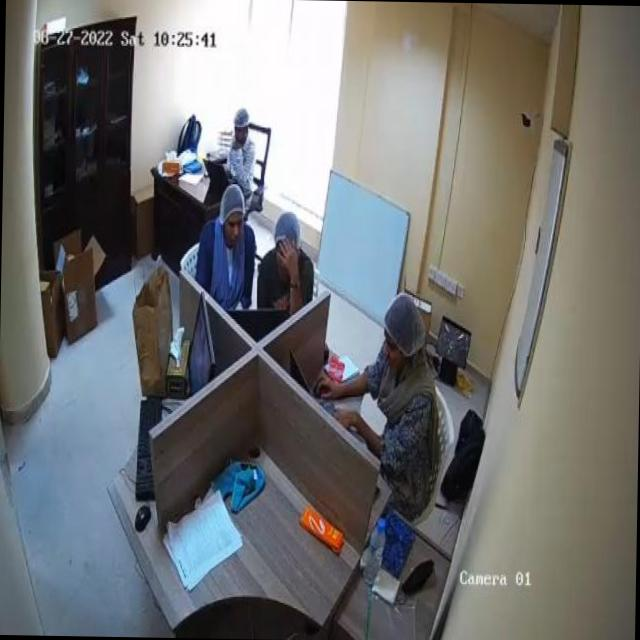hairnet: (386, 293, 428, 354), (273, 209, 301, 246), (219, 186, 246, 215), (234, 107, 251, 131)
